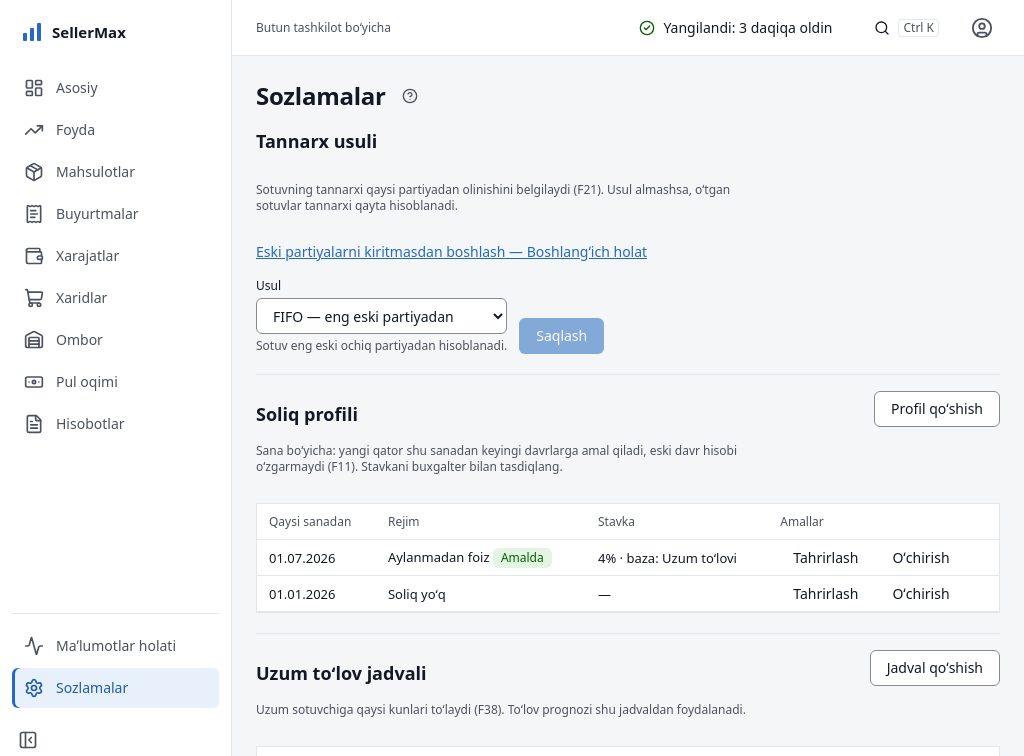
Test: soliq profili › server xatosi (sana band) — bildirishnoma, forma ochiq qoladi
The width and height of the screenshot is (1024, 756).
Expected: the heading "Sozlamalar" is shown, [256, 80, 386, 112]
Expected: the table named "Soliq profili" is shown, [257, 504, 999, 612]
Click the button "Profil qoʻshish" at (937, 409), box [874, 391, 1000, 427]
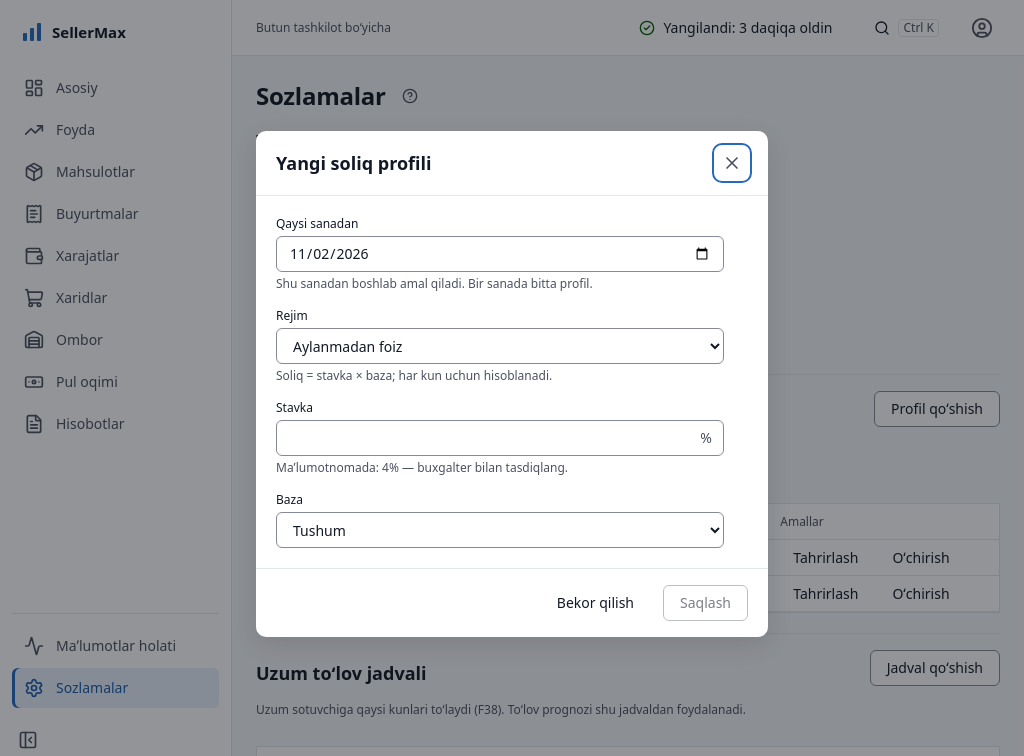
Type "4" into the field labelled "Stavka" at (500, 438), box [276, 420, 724, 456]
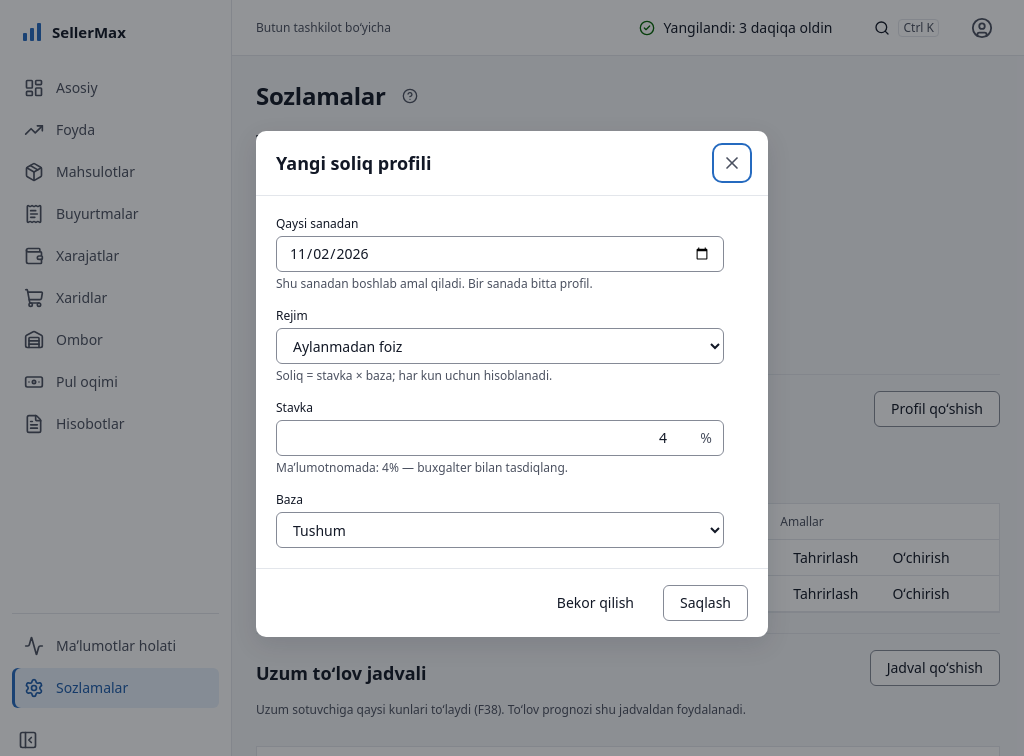
Click the button "Saqlash" at (706, 603), box [663, 585, 748, 621]
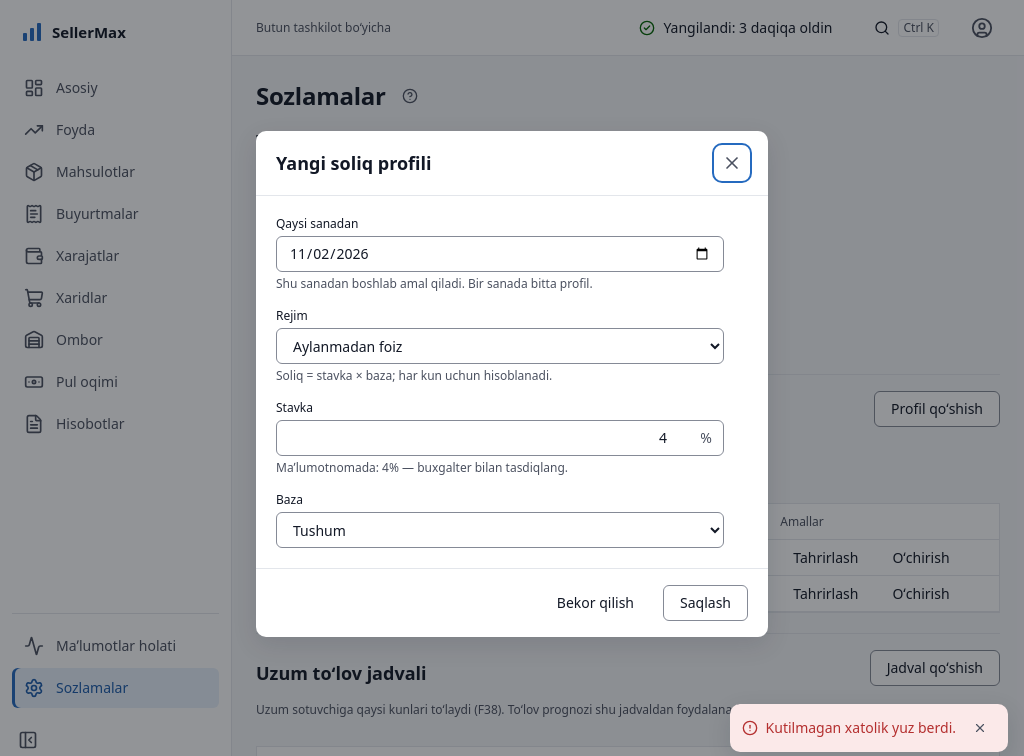
Result: the dialog "Yangi soliq profili" is shown at [256, 131, 768, 637]
Result: the element with class "ui-tone--negative" is shown at [730, 704, 1008, 752]
